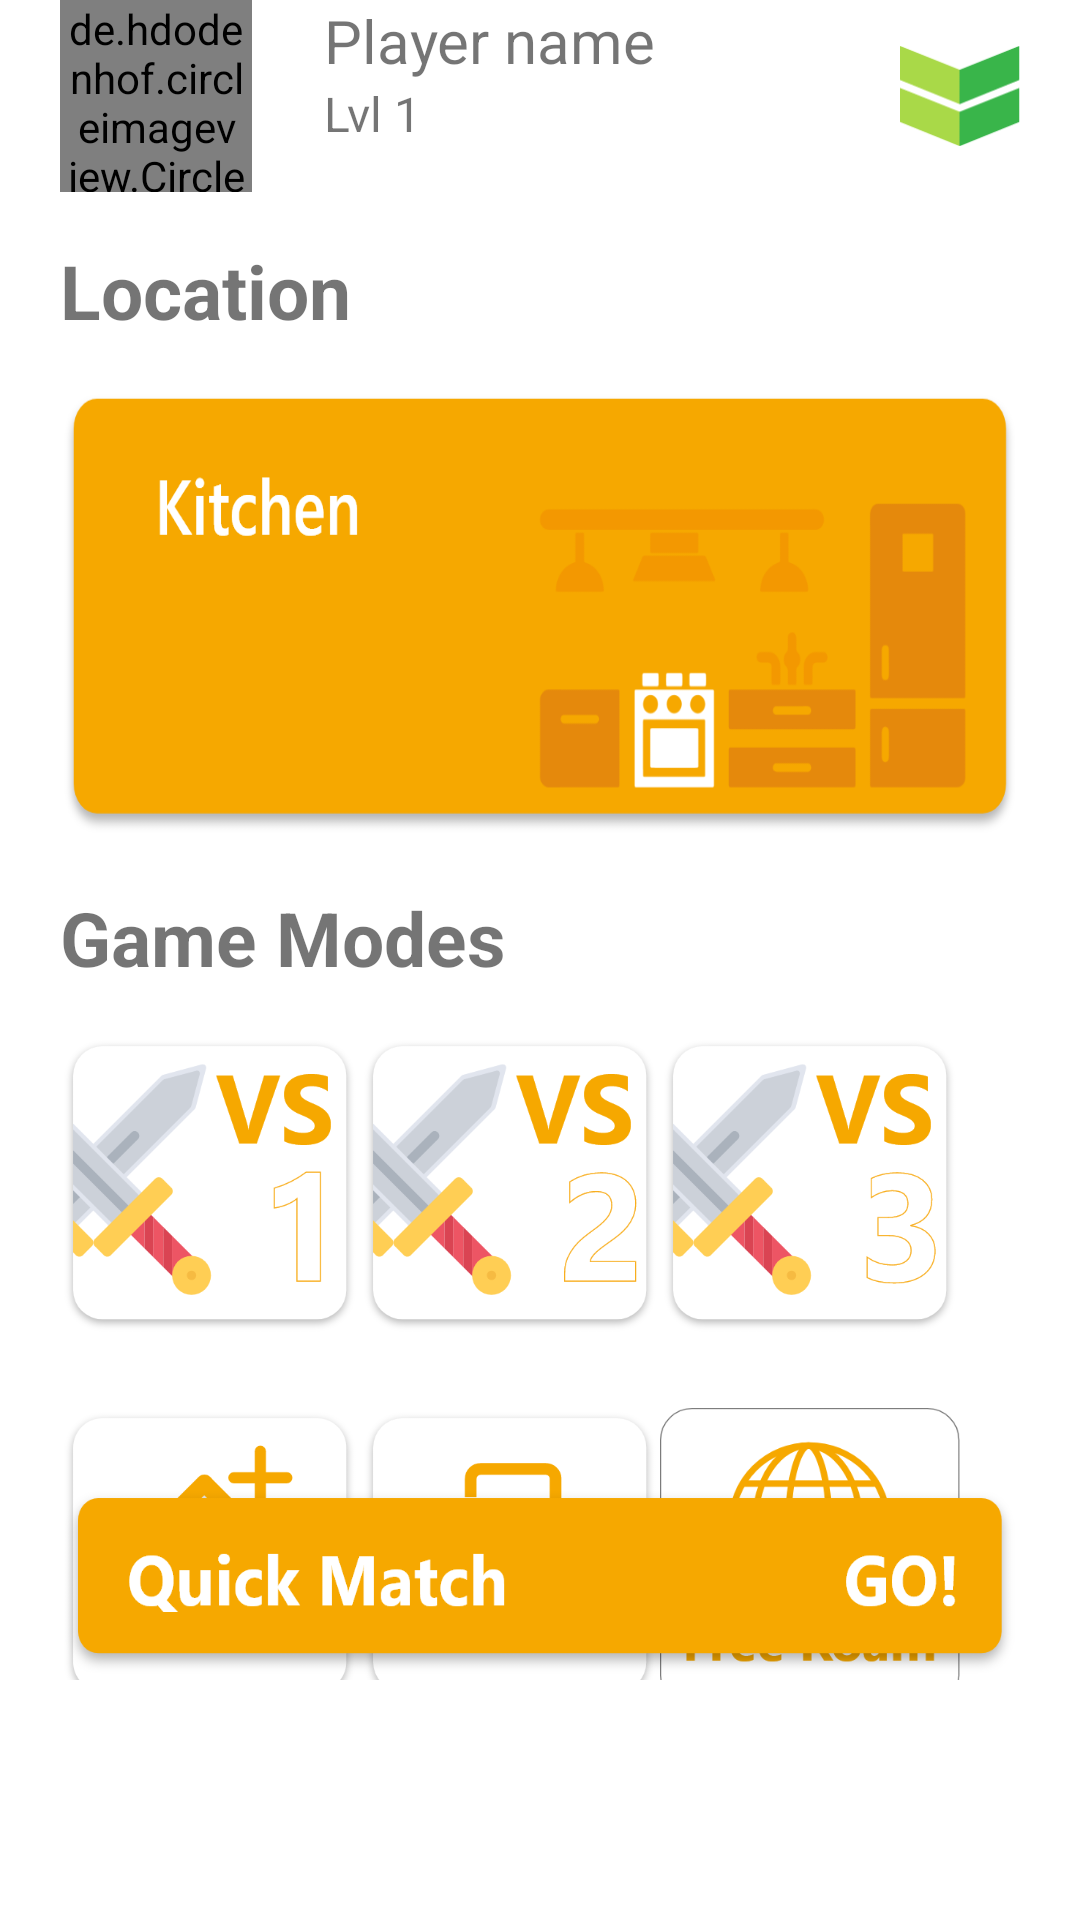

Icon bounding boxes for this 1080px x 1920px phone screenshot, format (x1, y1, x2, y2):
pangkat: (900, 46, 1020, 146)
